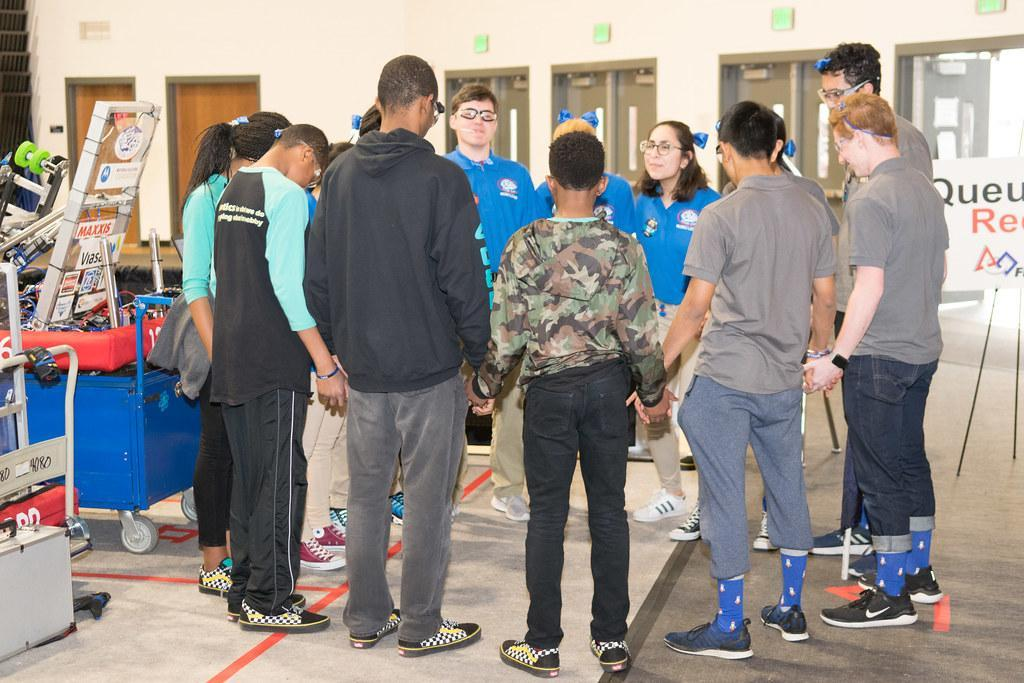robot: (0, 94, 193, 379), (0, 259, 85, 553)
